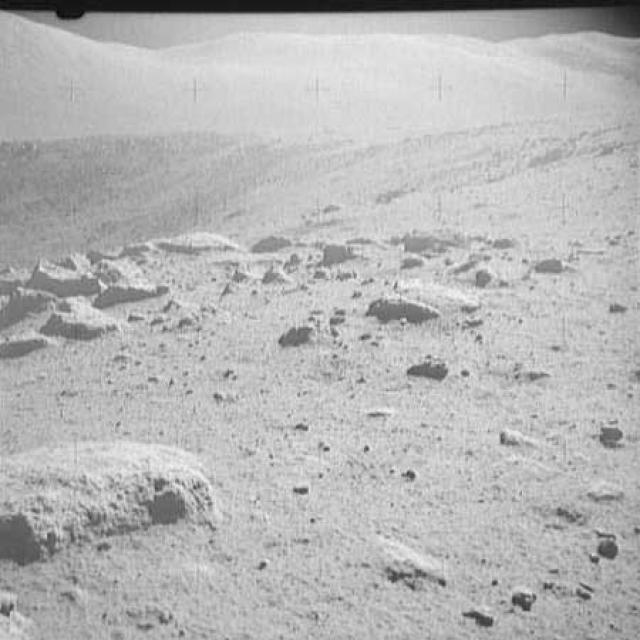rock: (0, 431, 217, 567), (94, 256, 162, 310), (48, 298, 114, 348), (30, 247, 97, 296), (363, 291, 438, 329), (404, 222, 468, 254), (0, 326, 48, 363), (407, 351, 451, 382), (279, 316, 314, 350), (321, 241, 362, 268), (536, 251, 574, 279), (470, 262, 500, 291)
